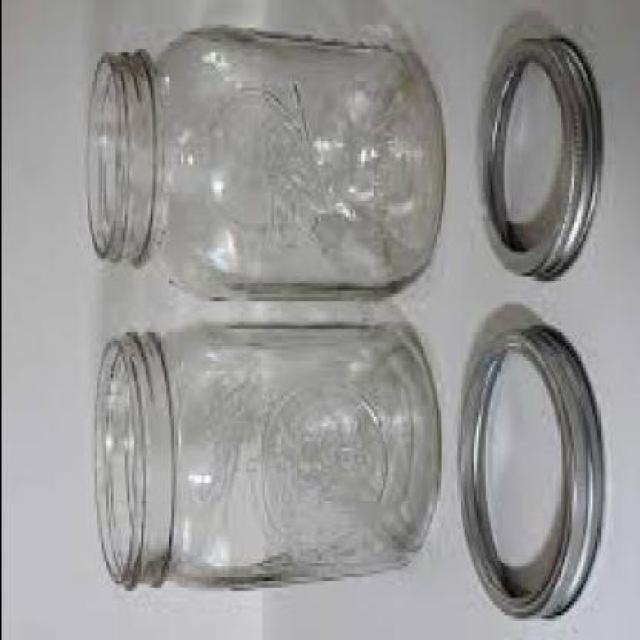GLASS: (84, 28, 442, 308), (90, 329, 438, 591)
METAL: (453, 326, 601, 622), (474, 42, 600, 287)
